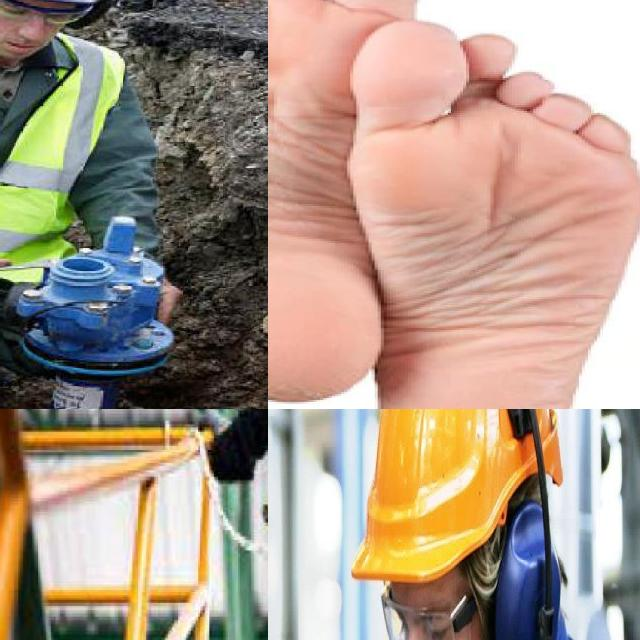Barefoots: (336, 15, 640, 409), (268, 0, 425, 403)
Ear-protection: (487, 409, 572, 640)
glasses: (0, 0, 103, 28)
head_helmet: (336, 409, 573, 595)
person: (0, 0, 197, 409)
vest: (0, 29, 95, 285)
